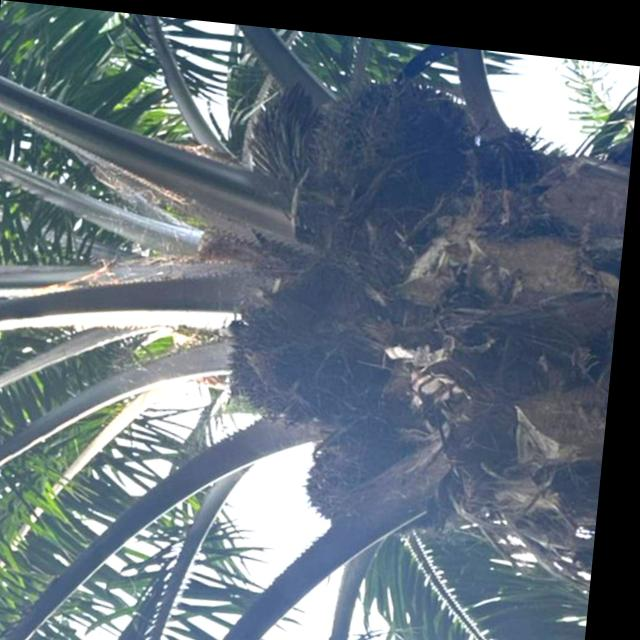unripe: (229, 264, 388, 446), (299, 67, 446, 222), (307, 422, 400, 521)
